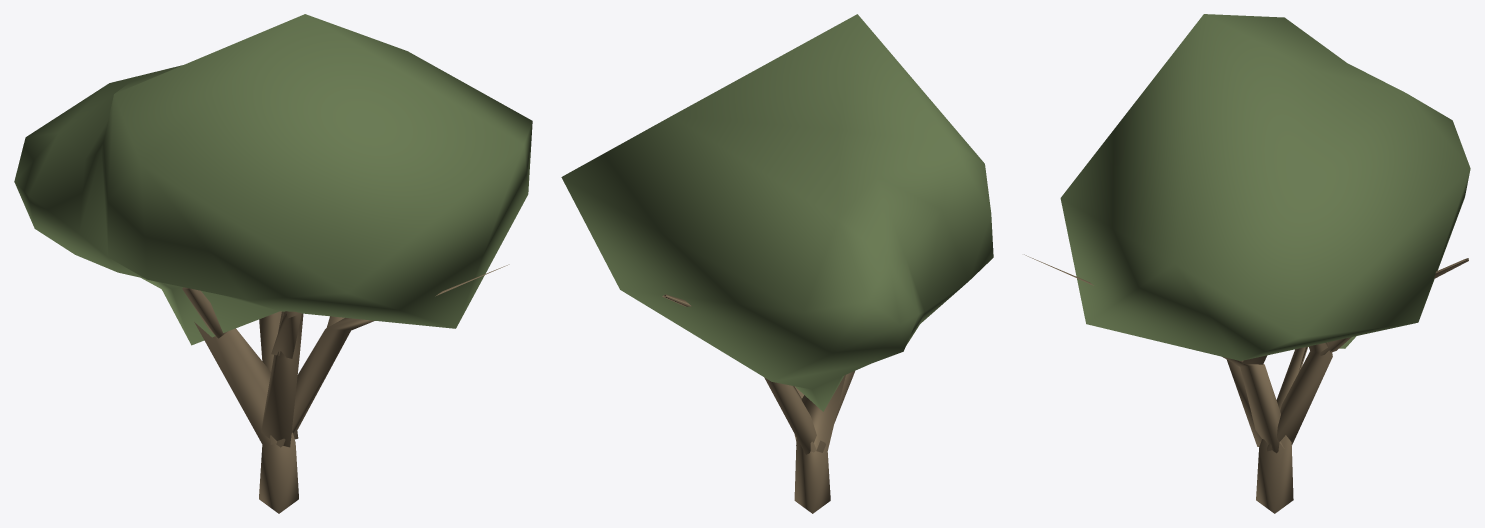
The model's file is Bush small 1 SB1.fbx.
The picture shows the model from 3 angles, left to right: view 1: azimuth 30°, elevation 25°; view 2: azimuth 150°, elevation 25°; view 3: azimuth 270°, elevation 25°; orthographic projection. The views are drawn at different scales.
Parts seen in each view (by area): view 1: tree.002; view 2: tree.002; view 3: tree.002.
Boxes of the visible parts, x1,y1,x2,y2 form: tree.002: (14,14,532,513); tree.002: (561,14,993,513); tree.002: (1024,14,1470,513).
Bounding box in the file's own units: 100 × 111 × 92.77.
